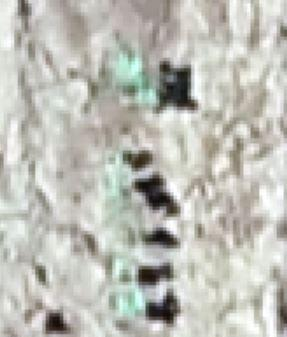cotton: (119, 56, 147, 80), (127, 78, 152, 104), (119, 292, 145, 315), (115, 260, 136, 286), (103, 176, 131, 193), (113, 196, 132, 217), (129, 227, 142, 243), (109, 156, 122, 169)
